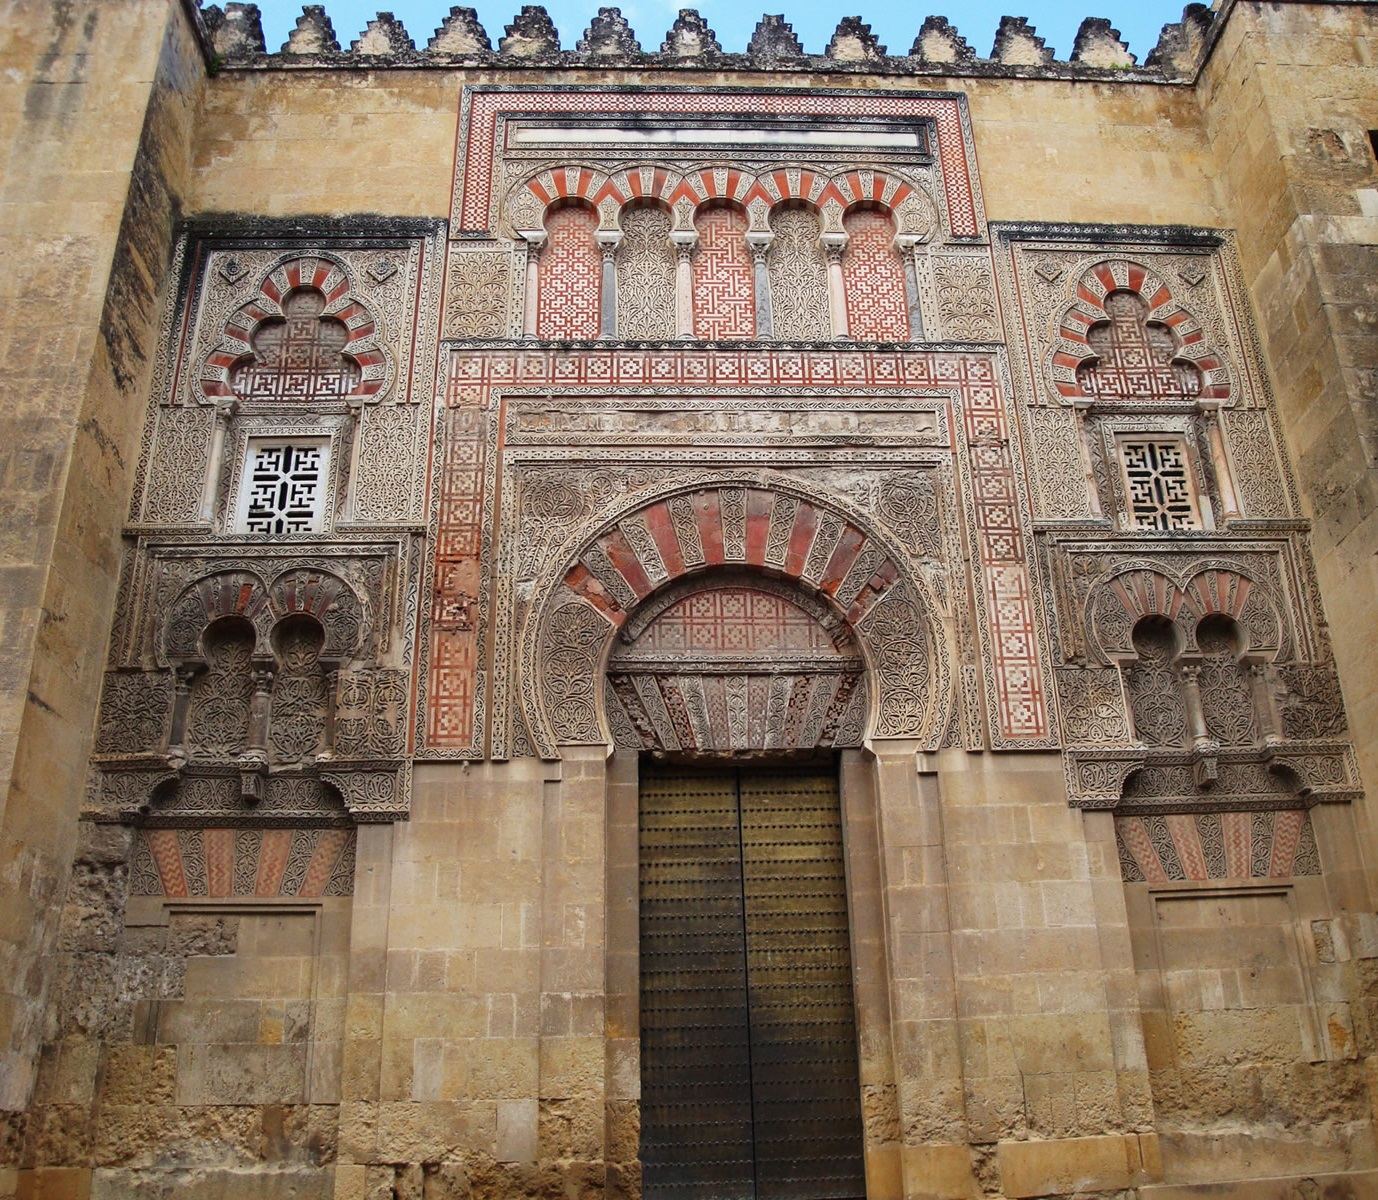arco-herradura: (581, 555, 898, 773), (187, 605, 262, 686), (264, 606, 337, 684), (682, 190, 760, 260), (835, 187, 910, 255), (535, 187, 608, 257), (760, 189, 834, 257), (1123, 609, 1192, 677), (1192, 607, 1260, 676), (610, 191, 683, 255)
arco-lobulado: (221, 274, 371, 412), (1069, 280, 1217, 412)
dintel-adovelado: (605, 664, 861, 752), (141, 821, 350, 900), (1112, 804, 1309, 885)
